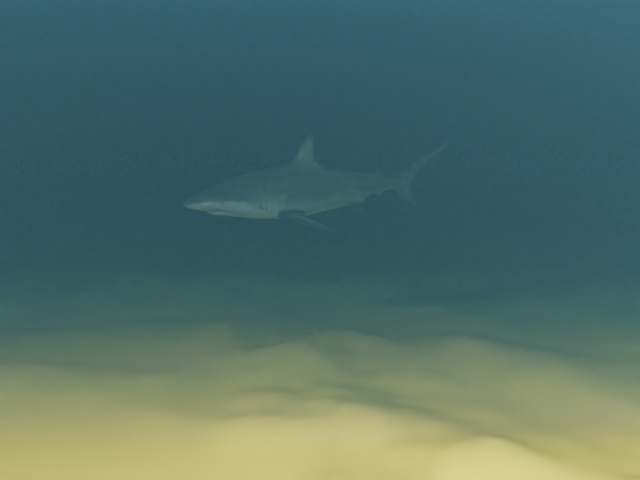Carribean Shark.001: (182, 133, 458, 231)
